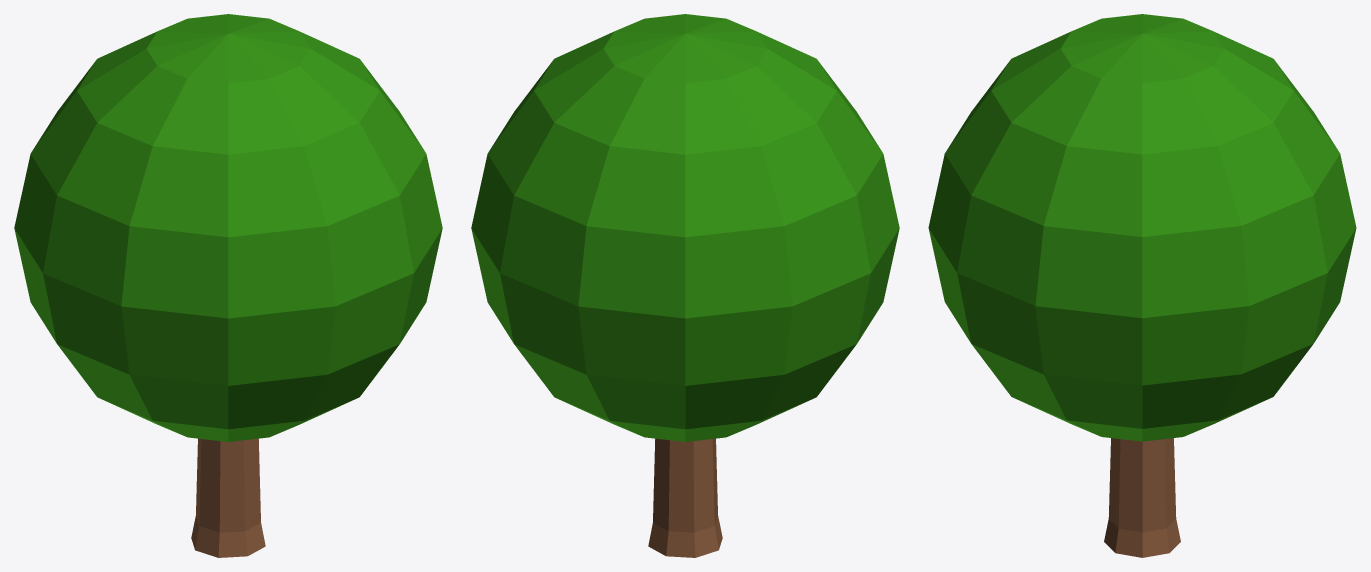
Rendered from Prop_Decorative_Tree_Elm_1.obj.
3 renders of one model, left to right at view 1: azimuth 30°, elevation 25°; view 2: azimuth 150°, elevation 25°; view 3: azimuth 270°, elevation 25°, orthographic.
Visible parts, largest first — view 1: Leaves, Trunk; view 2: Leaves, Trunk; view 3: Leaves, Trunk.
Boxes of the visible parts, x1,y1,x2,y2 form: Leaves: (14, 14, 442, 441); Trunk: (191, 438, 265, 557); Leaves: (471, 14, 899, 441); Trunk: (648, 438, 722, 557); Leaves: (928, 14, 1356, 441); Trunk: (1104, 438, 1180, 557).
Bounding box in the file's own units: 2.5 × 3.27 × 2.5.
